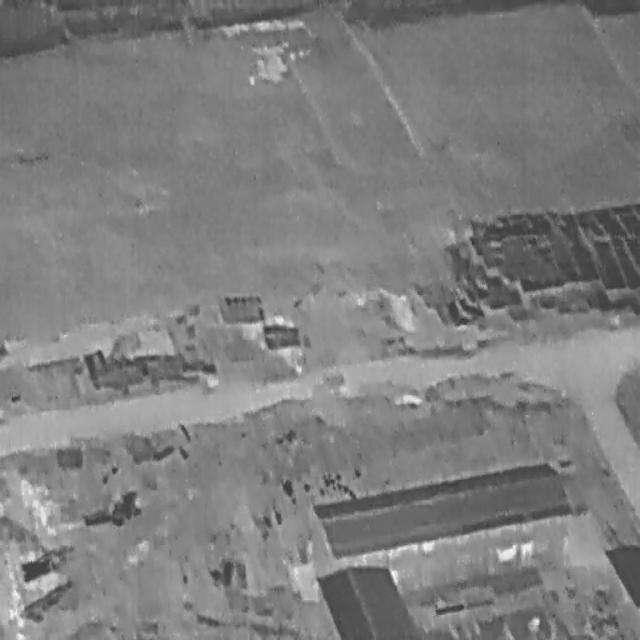Person: (389, 565, 398, 589)
